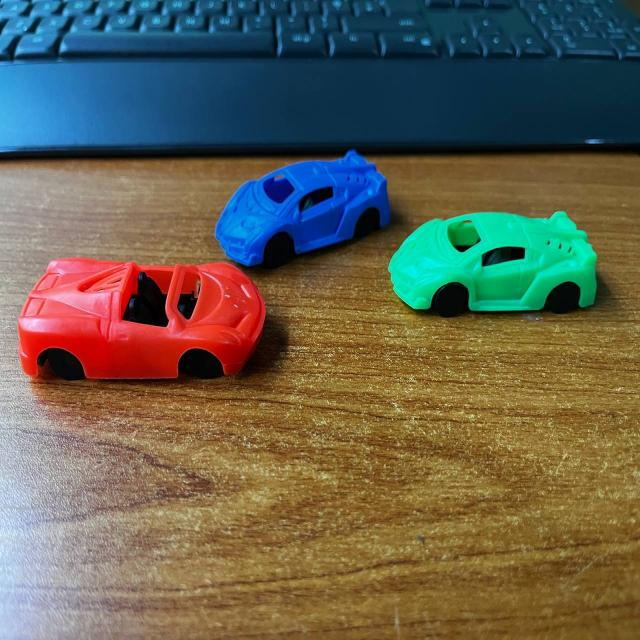car: (15, 242, 272, 422), (381, 198, 619, 338), (209, 144, 393, 266)
